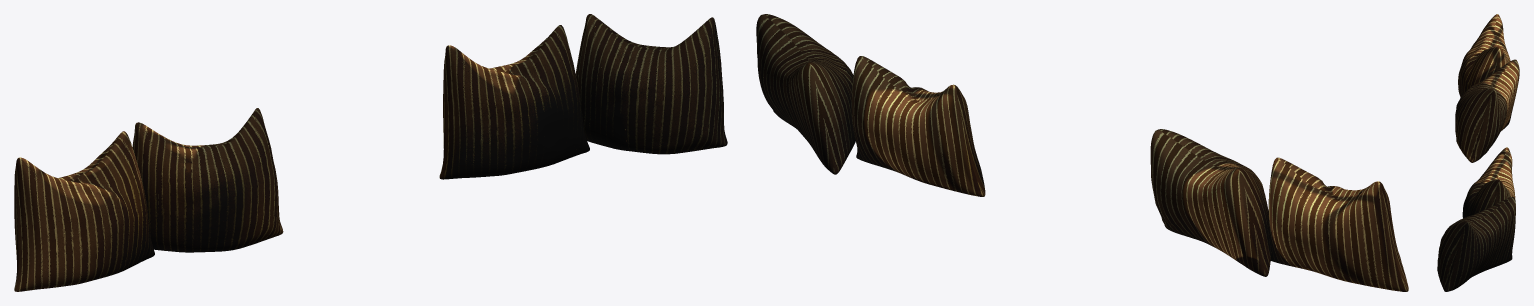
Rendered from pillows_tokyo_bed_cushion.000.glb.
The picture shows the model from 3 angles, left to right: view 1: azimuth 30°, elevation 25°; view 2: azimuth 150°, elevation 25°; view 3: azimuth 270°, elevation 25°; orthographic projection. The views are drawn at different scales.
Visible parts, largest first — view 1: pillows_tokyo_bed_cushion.000; view 2: pillows_tokyo_bed_cushion.000; view 3: pillows_tokyo_bed_cushion.000.
Boxes of the visible parts, <box> form: pillows_tokyo_bed_cushion.000: <box>14,14,727,291</box>; pillows_tokyo_bed_cushion.000: <box>756,14,1408,291</box>; pillows_tokyo_bed_cushion.000: <box>1437,14,1519,291</box>.
Size of the model in its own units: 2.15 by 0.3636 by 0.355.
Materials: 1 (1 with a texture image).
